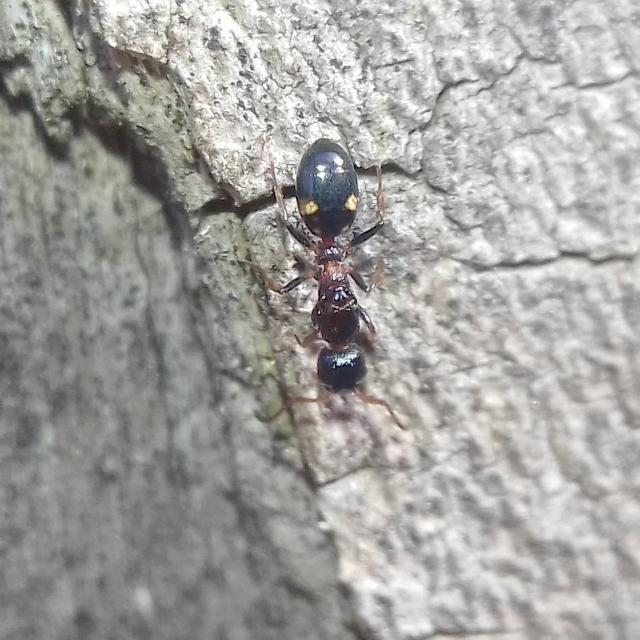Dolichoderus: (250, 94, 424, 436)
